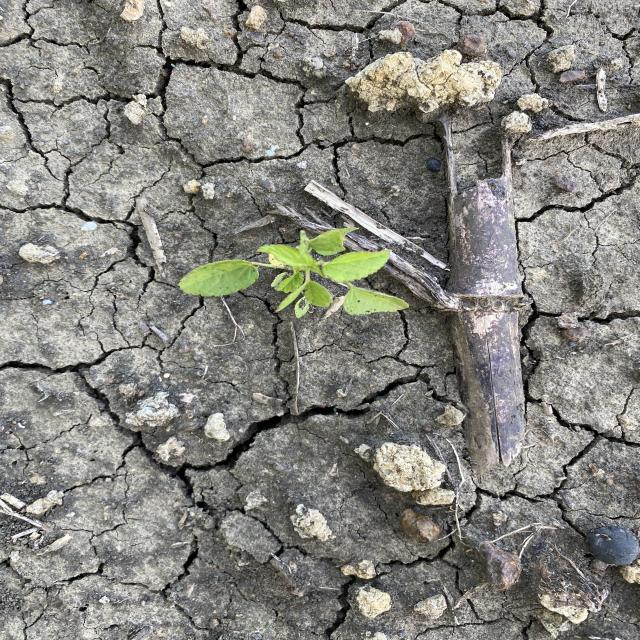PricklySida: (176, 225, 412, 320)
